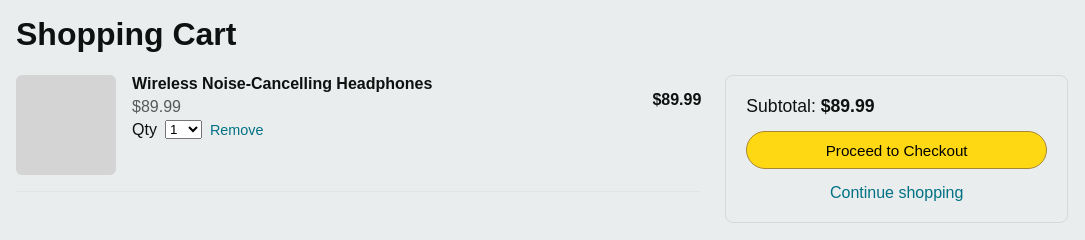
it: Cart › removes an item from the cart
Click the button "Remove" at (237, 130), box [210,122,264,138]
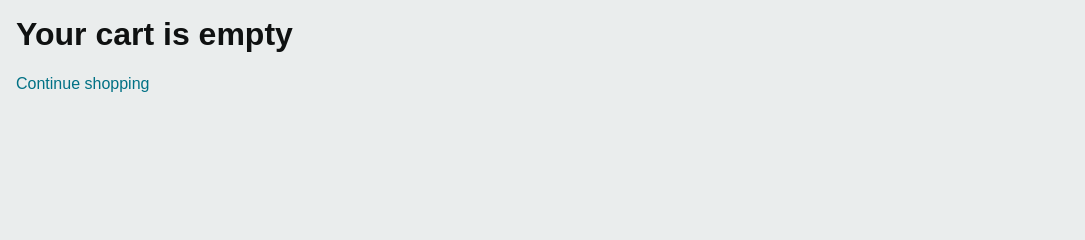
Result: the heading "Your cart is empty" is shown at [16,16,293,52]
